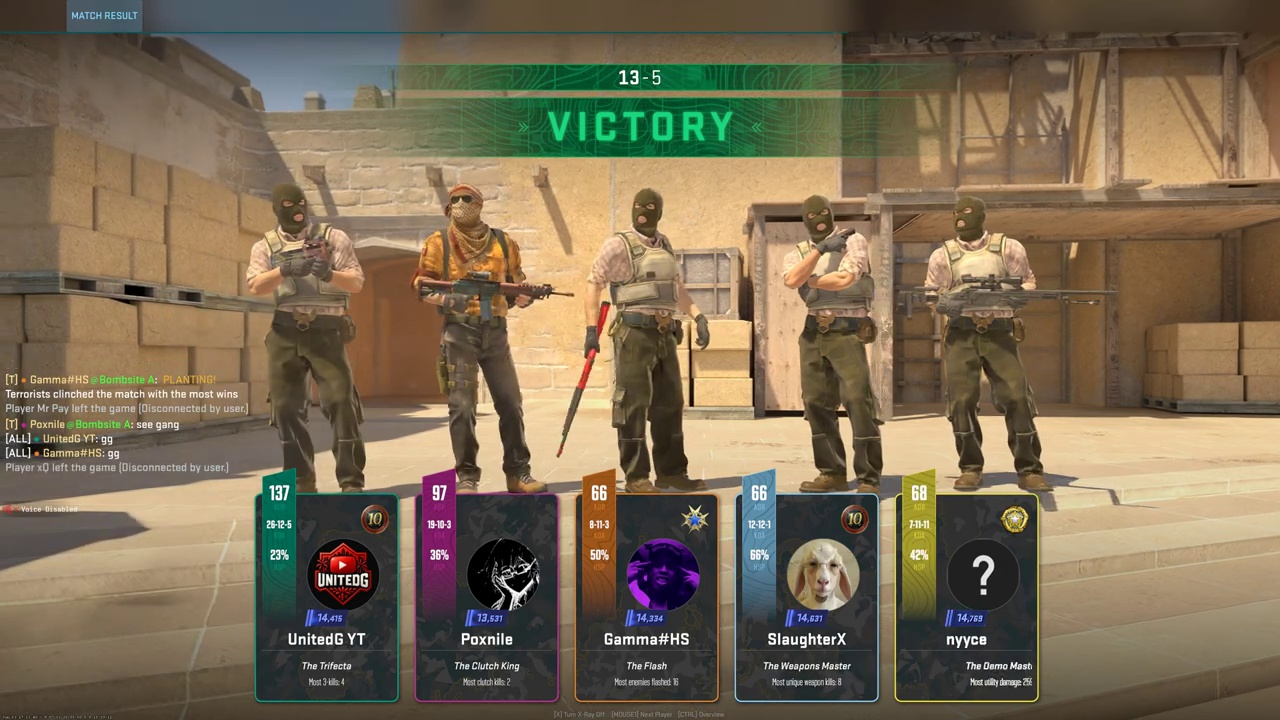Terrorist: (260, 184, 368, 495), (933, 198, 1045, 488), (432, 183, 532, 492), (600, 189, 699, 491), (793, 195, 889, 491)
